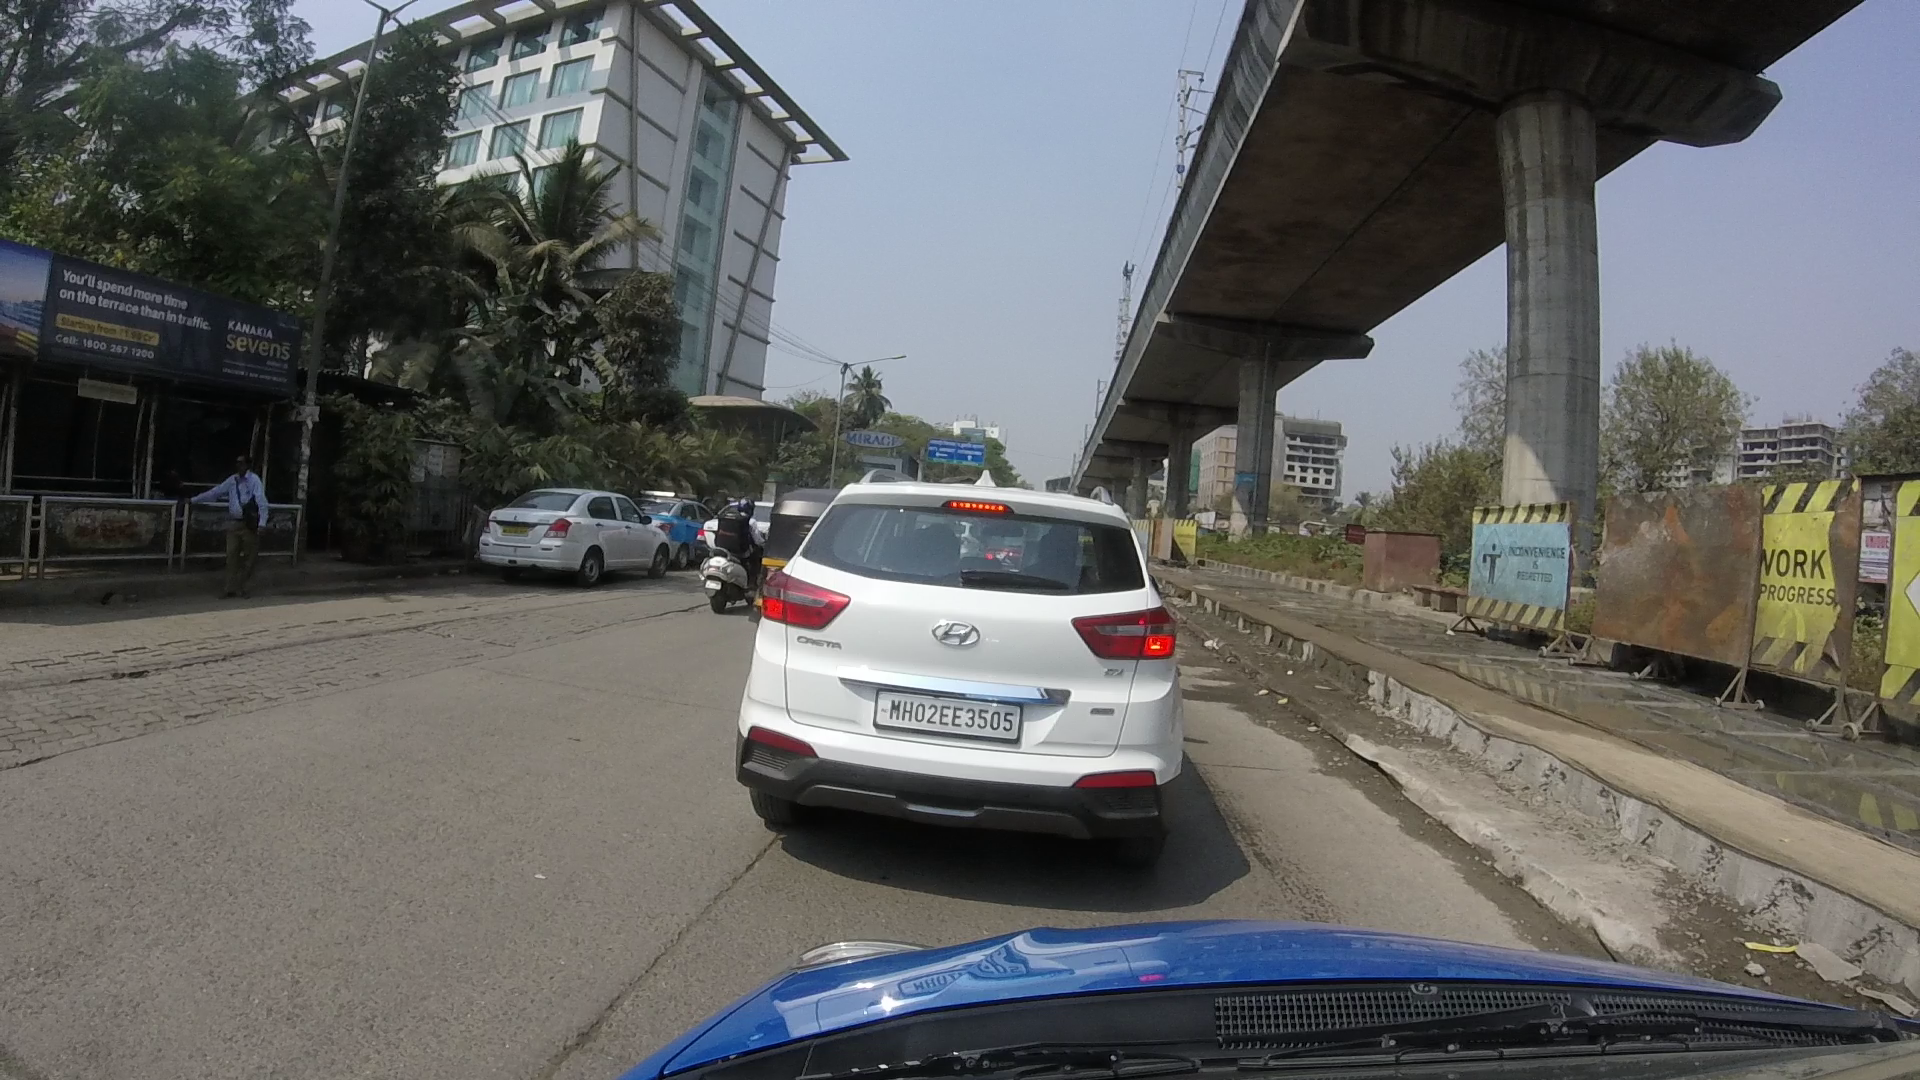bike/scooter: (683, 487, 762, 611)
car: (733, 481, 1212, 843), (468, 463, 676, 597)
rickshaw: (756, 481, 827, 593)
